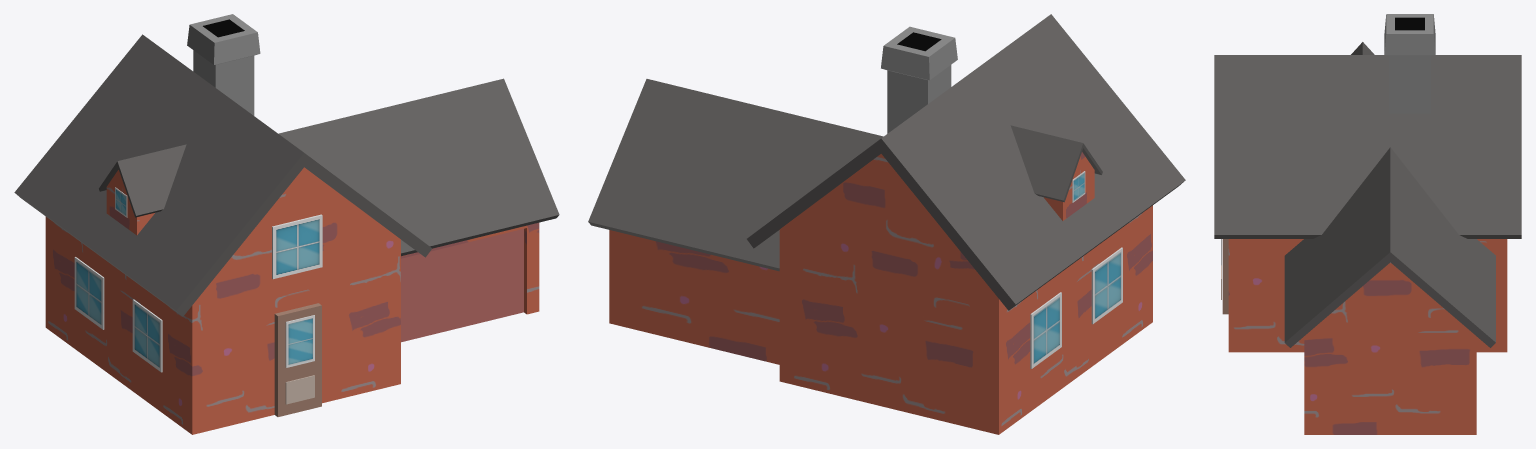
Rendered from House2.fbx.
The picture shows the model from 3 angles, left to right: view 1: azimuth 30°, elevation 25°; view 2: azimuth 150°, elevation 25°; view 3: azimuth 270°, elevation 25°; orthographic projection. The views are drawn at different scales.
Visible parts, largest first — view 1: House2; view 2: House2; view 3: House2.
Part boxes in pixels (x1=…): House2: x1=14, y1=14, x2=559, y2=434; House2: x1=588, y1=14, x2=1185, y2=434; House2: x1=1214, y1=14, x2=1521, y2=434.
Bounding box in the file's own units: 9.19 × 6.39 × 6.13.
